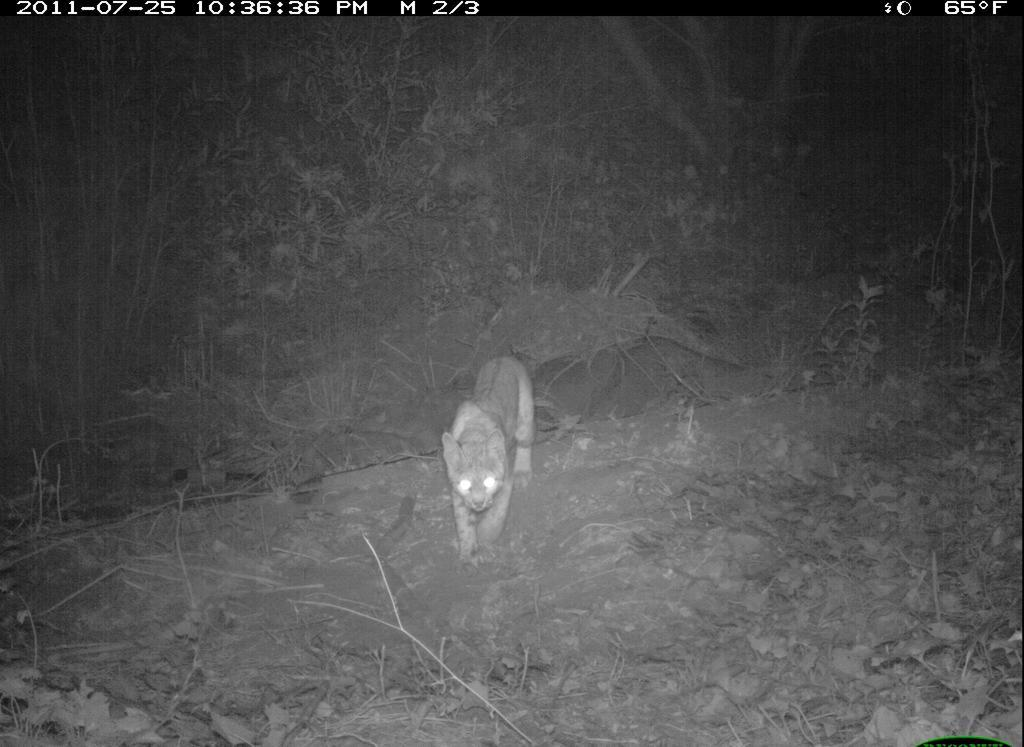bobcat: (429, 342, 562, 584)
